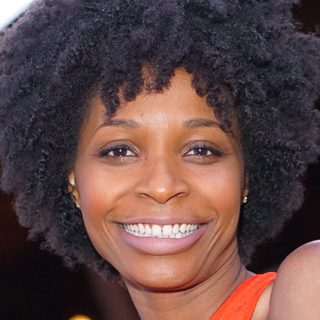eye: (172, 135, 232, 167), (91, 139, 144, 164)
